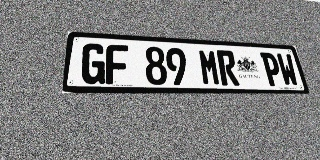8: (145, 46, 167, 85)
9: (165, 47, 188, 85)
F: (106, 44, 129, 84)
G: (80, 43, 106, 84)
M: (198, 49, 221, 85)
P: (260, 52, 284, 86)
R: (216, 50, 240, 86)
W: (276, 53, 300, 86)
